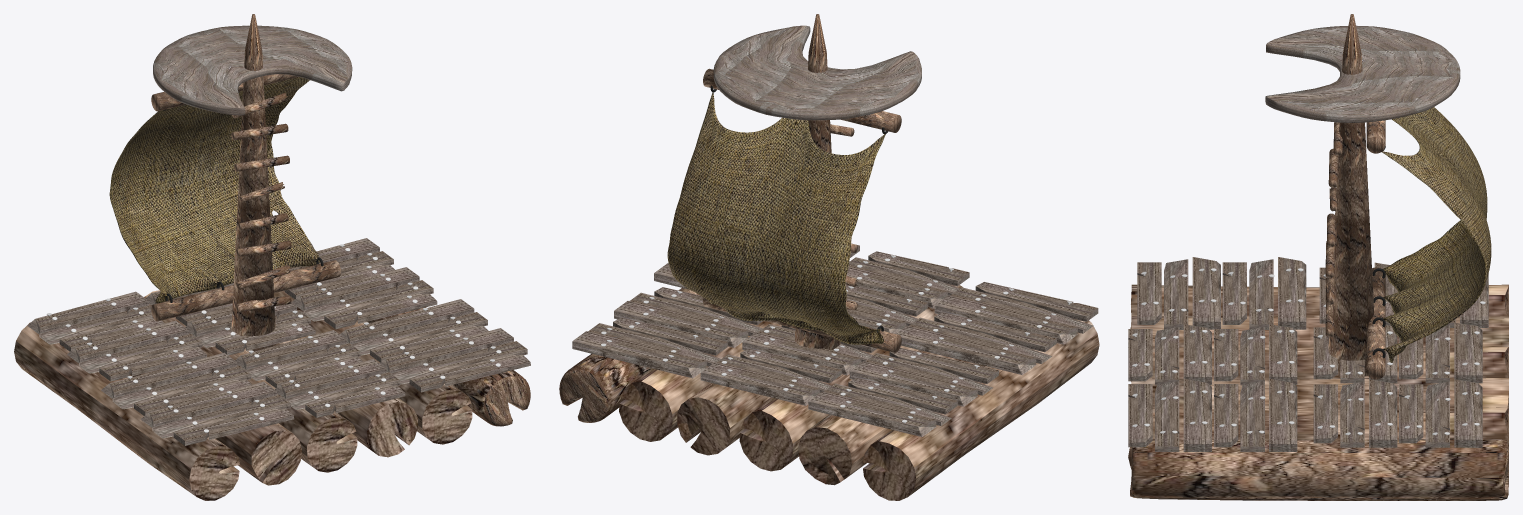
The model's file is MedAnim@walk.fbx.
The picture shows the model from 3 angles, left to right: view 1: azimuth 30°, elevation 25°; view 2: azimuth 150°, elevation 25°; view 3: azimuth 270°, elevation 25°; orthographic projection. The views are drawn at different scales.
Parts seen in each view (by area): view 1: wood.003, Plane, Cylinder.012, churka3LP, Cylinder, churka1LP, churka1LP.002, churka2hp, churka1LP.001, churka1LP.003, Cylinder.010, bolt.003 (+1 smaller); view 2: wood.003, Plane, Cylinder.012, churka3LP, churka1LP, churka1LP.002, churka2hp, churka1LP.001, churka1LP.003, Cylinder, bolt.003, Cylinder.011 (+1 smaller); view 3: wood.003, churka1LP.003, Plane, Cylinder.012, Cylinder, churka1LP.001, churka1LP.002, churka2hp, churka1LP, churka3LP, bolt.003, Cylinder.010 (+1 smaller).
Part boxes in pixels (x1,y1,x2,y2): wood.003: (27, 238, 530, 445); Plane: (109, 77, 320, 303); Cylinder.012: (153, 25, 352, 115); churka3LP: (14, 322, 239, 500); Cylinder: (231, 14, 275, 351); churka1LP: (144, 290, 357, 472); churka1LP.002: (274, 291, 472, 444); churka2hp: (130, 368, 301, 485); churka1LP.001: (275, 335, 417, 457); churka1LP.003: (367, 307, 530, 426); Cylinder.010: (151, 260, 340, 321); bolt.003: (46, 244, 501, 432); wood.003: (572, 243, 1098, 436); Plane: (667, 92, 885, 344); Cylinder.012: (713, 25, 921, 120); churka3LP: (863, 318, 1099, 500); churka1LP: (739, 283, 962, 471); churka1LP.002: (619, 321, 781, 441); churka2hp: (798, 350, 983, 485); churka1LP.001: (677, 383, 772, 455); churka1LP.003: (559, 288, 699, 422); Cylinder: (794, 14, 840, 350); bolt.003: (601, 255, 1072, 423); Cylinder.011: (703, 68, 901, 132); wood.003: (1128, 257, 1488, 451); churka1LP.003: (1130, 438, 1508, 500); Plane: (1382, 107, 1491, 362); Cylinder.012: (1265, 25, 1460, 122); Cylinder: (1328, 14, 1373, 376); churka1LP.001: (1131, 378, 1508, 408); churka1LP.002: (1128, 407, 1508, 469); churka2hp: (1131, 316, 1508, 347); churka1LP: (1131, 347, 1508, 383); churka3LP: (1130, 284, 1508, 328); bolt.003: (1132, 268, 1485, 435); Cylinder.010: (1366, 267, 1385, 379).
Size of the model in its own units: 16955 by 16988 by 14422.
